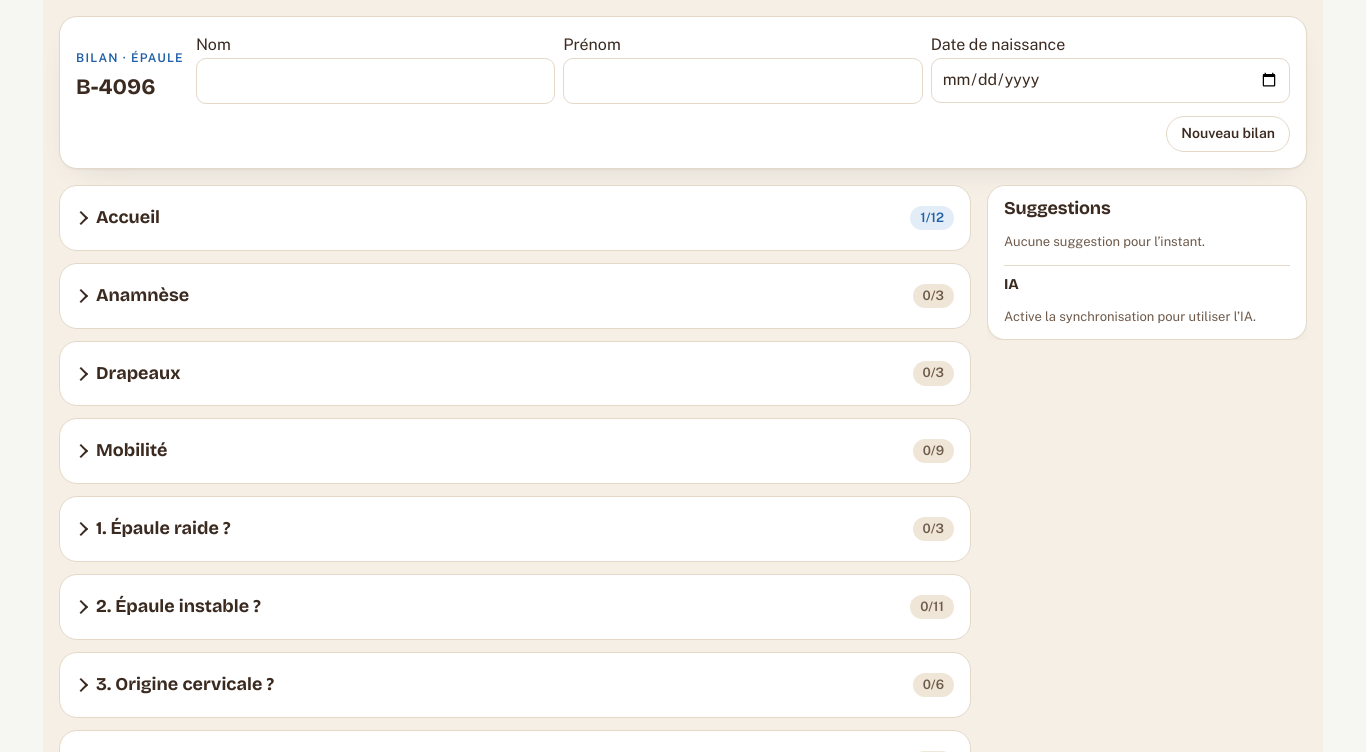
section Accueil (physio) › zone du bilan non cochée par le patient : avertissement
The image size is (1366, 752).
expect the text with class "bilan-sec-title" reads "Accueil": met, box top-left (96, 206), bottom-right (160, 228)
Click the heading "Accueil 1/12". click: coordinates (128, 217)
box: top-left (96, 206), bottom-right (954, 230)
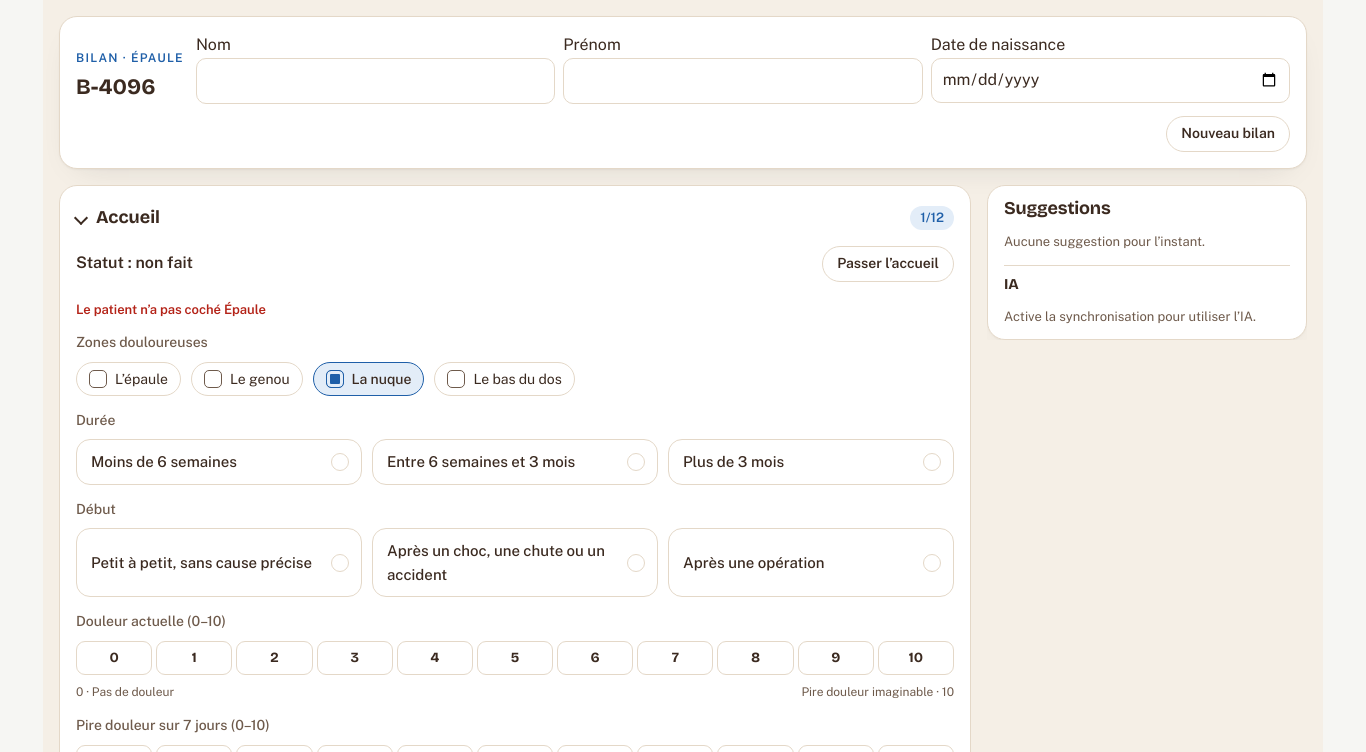
expect the text "Le patient n’a pas coché Épaule" is shown: met, box top-left (76, 302), bottom-right (266, 317)
